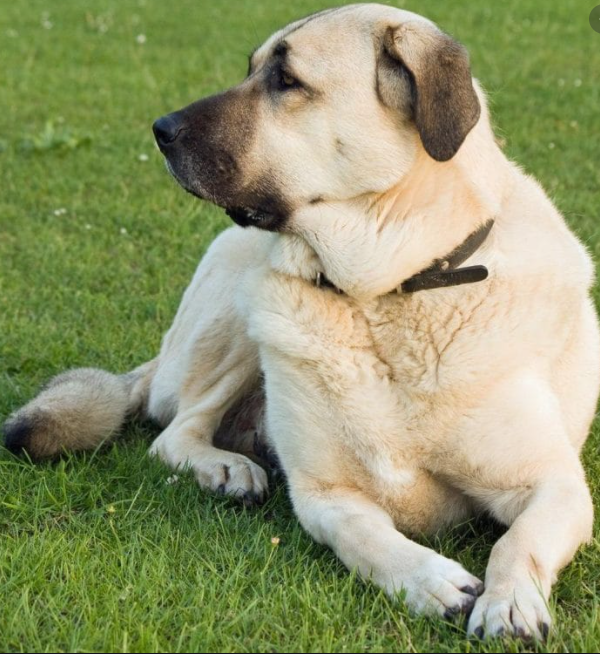dog: (76, 2, 596, 612)
